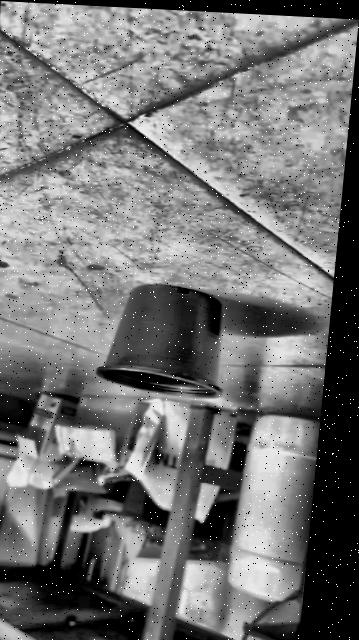pot: (93, 282, 231, 399)
